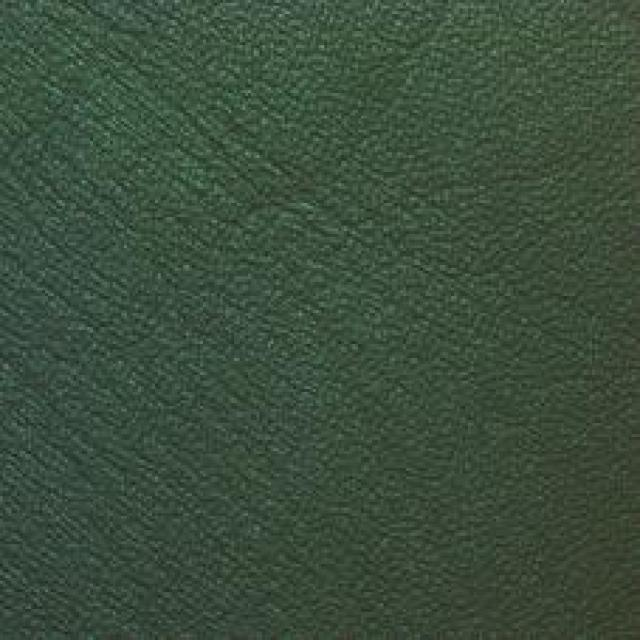Growth Marks: (64, 19, 301, 210), (30, 263, 184, 530)
